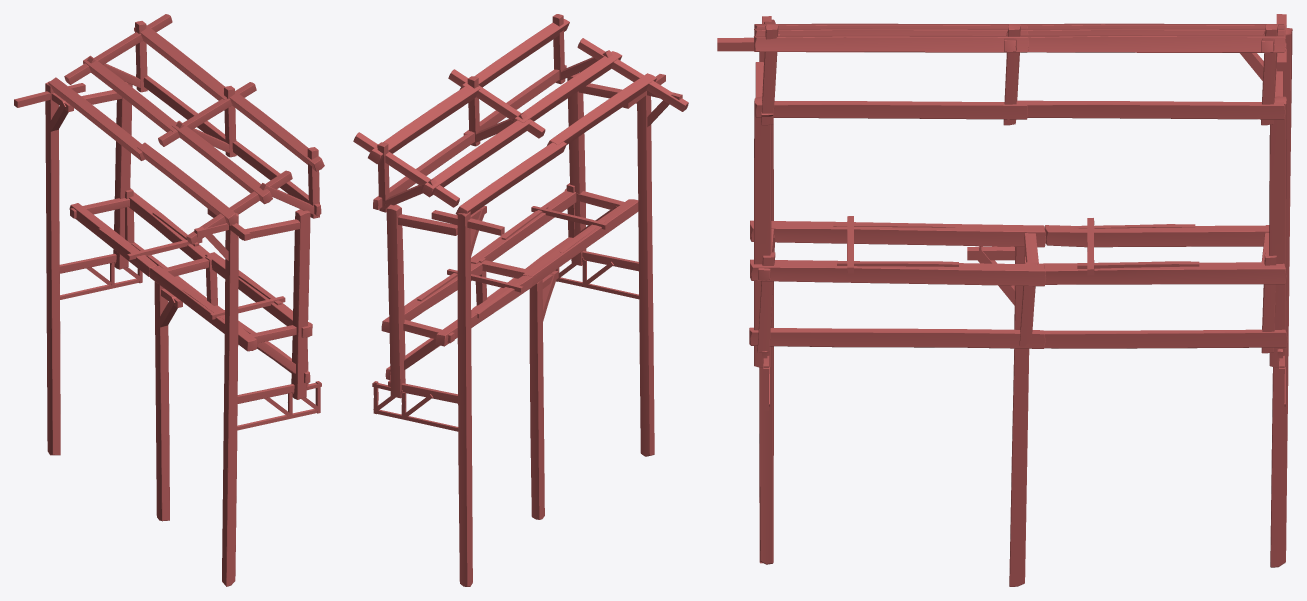
File: structure_esir.fbx
The picture shows the model from 3 angles, left to right: view 1: azimuth 30°, elevation 25°; view 2: azimuth 150°, elevation 25°; view 3: azimuth 270°, elevation 25°; orthographic projection. The views are drawn at different scales.
Visible parts, largest first — view 1: Beam_Structure_24A_Lod0; view 2: Beam_Structure_24A_Lod0; view 3: Beam_Structure_24A_Lod0.
Boxes of the visible parts, x1,y1,x2,y2 form: Beam_Structure_24A_Lod0: (14, 14, 324, 586); Beam_Structure_24A_Lod0: (353, 14, 688, 586); Beam_Structure_24A_Lod0: (717, 14, 1292, 586).
Bounding box in the file's own units: 280 × 723 × 620.
